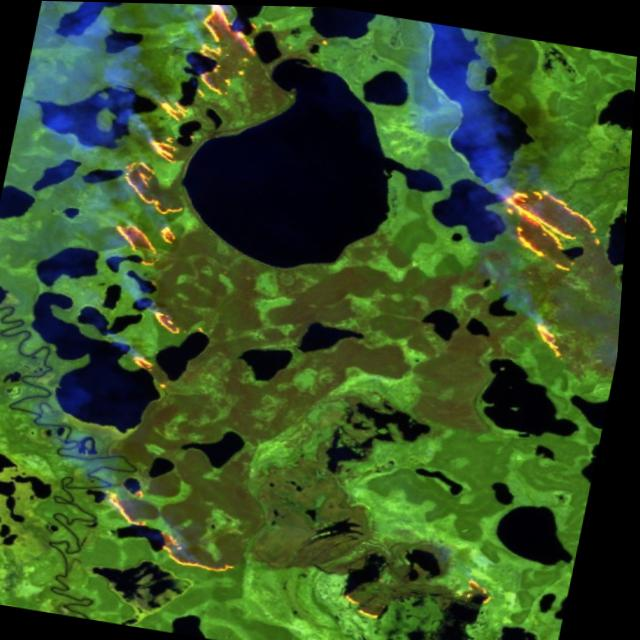fire: (46, 1, 360, 579), (462, 169, 632, 378), (329, 579, 411, 632), (450, 564, 523, 621)
